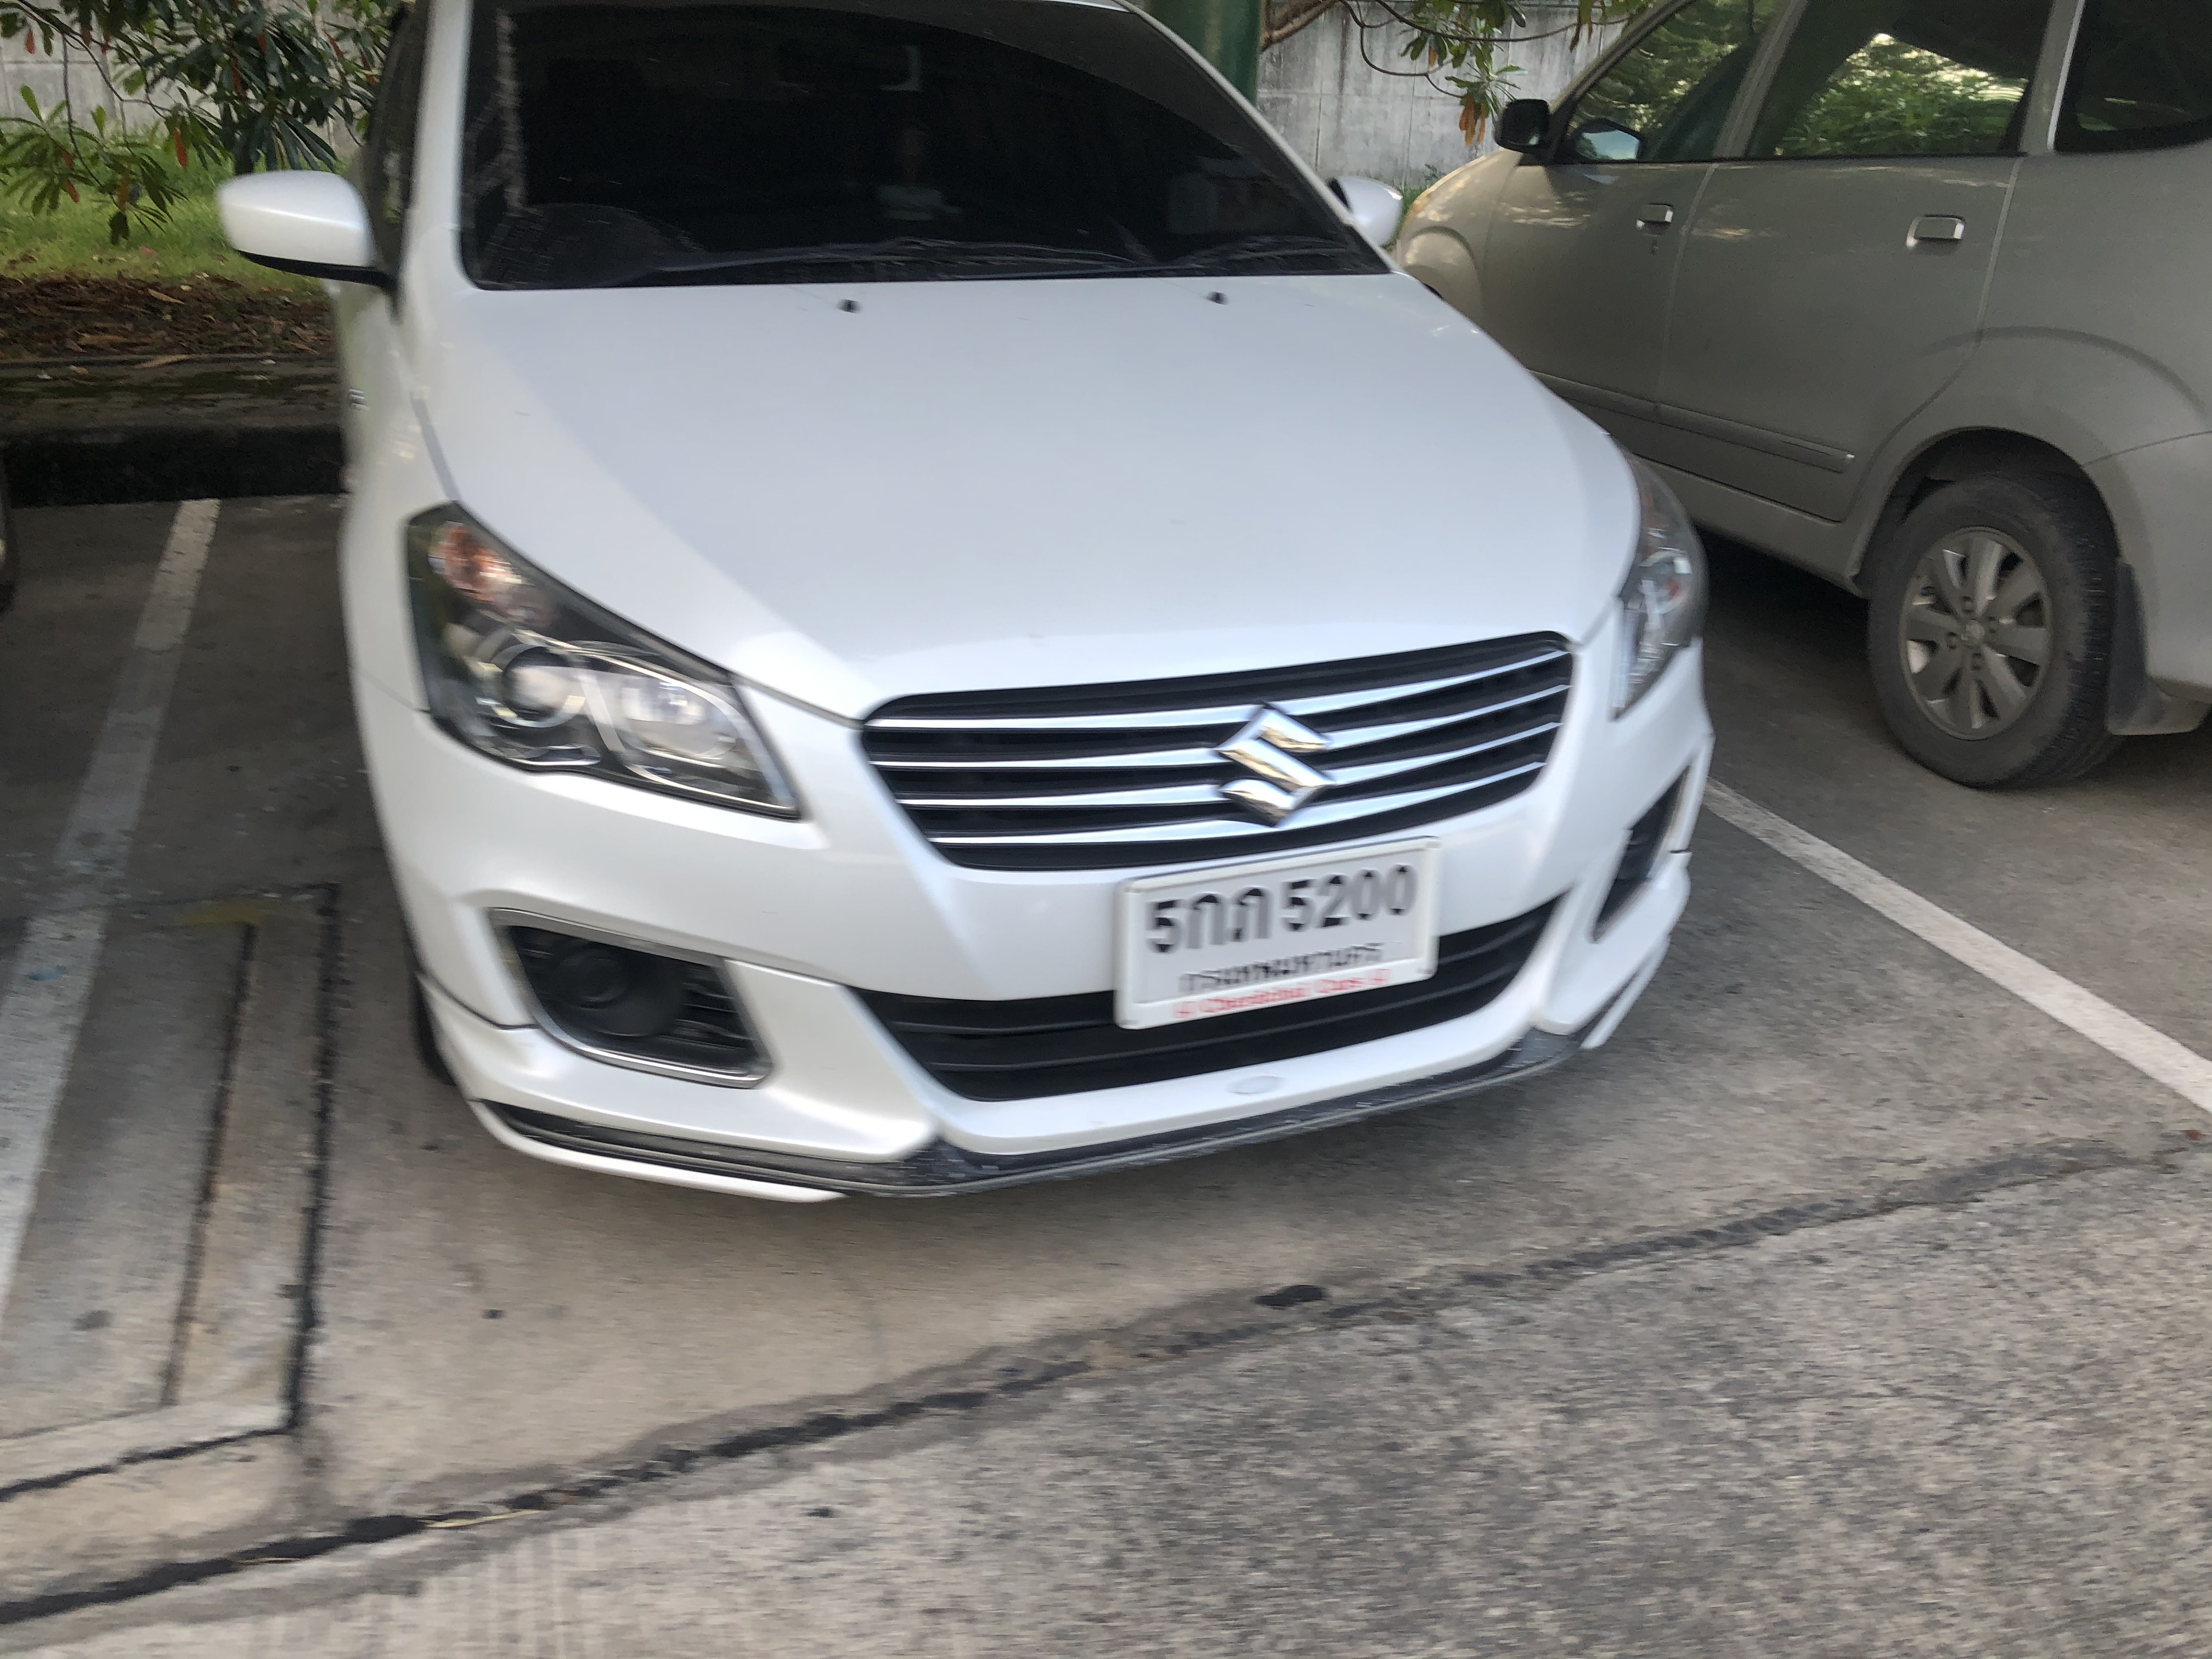in: (1143, 852, 1421, 999)
out: (1111, 838, 1449, 1019)
